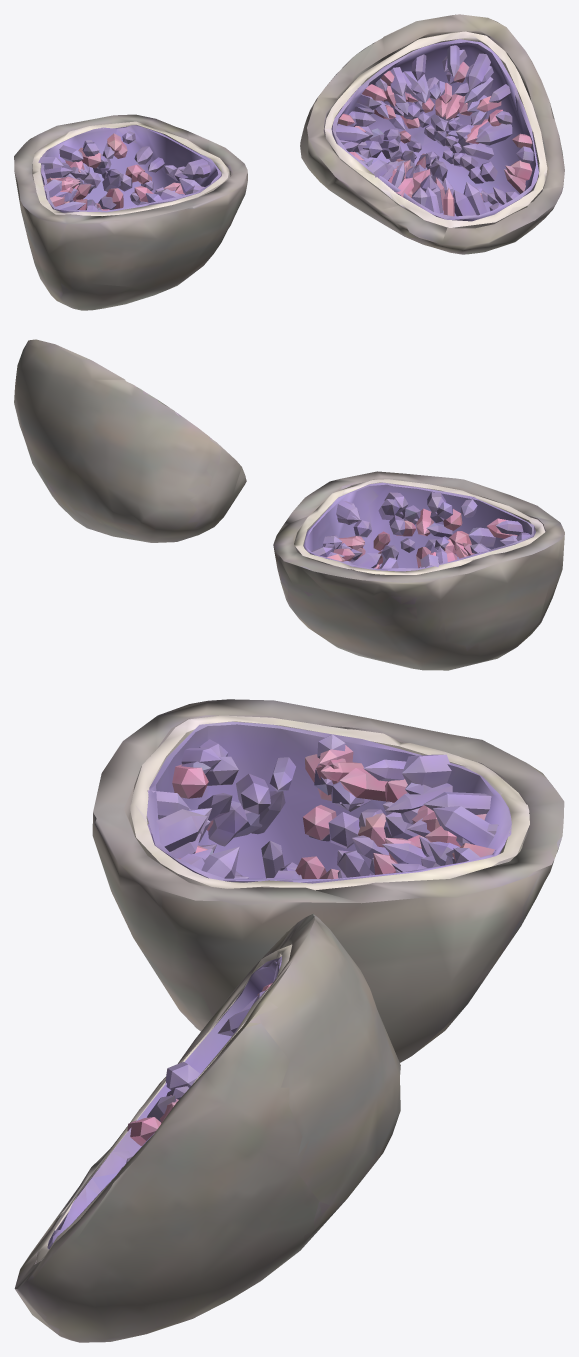
Rendered from geode.glb.
The picture shows the model from 3 angles, top to bottom: view 1: azimuth 30°, elevation 25°; view 2: azimuth 150°, elevation 25°; view 3: azimuth 270°, elevation 25°; orthographic projection. The views are drawn at different scales.
Visible parts, largest first — view 1: geode_body; view 2: geode_body; view 3: geode_body.
Boxes of the visible parts, x1,y1,x2,y2 form: geode_body: [14, 14, 564, 310]; geode_body: [14, 339, 564, 670]; geode_body: [14, 699, 564, 1342].
Size of the model in its own units: 0.8828 by 0.3277 by 0.4255.
1 material, 1 textured.
